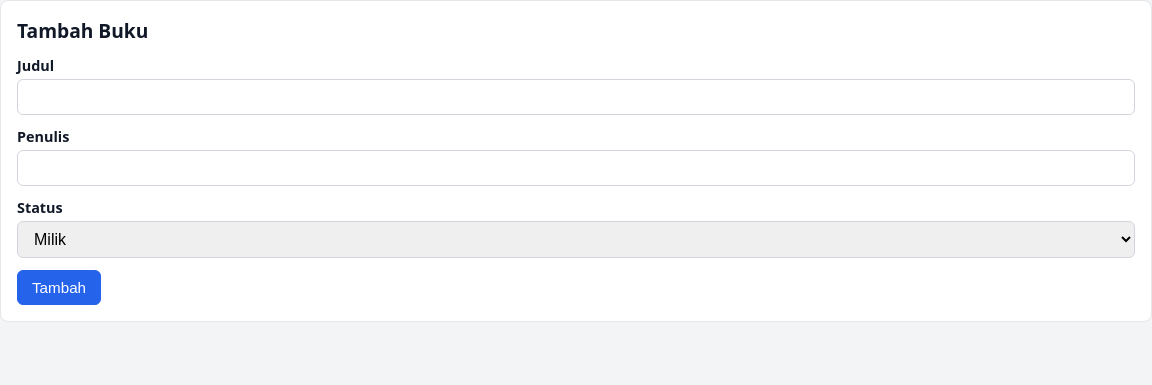
<BookForm /> › menghapus pesan error ketika pengguna mulai mengetik
This screenshot has width=1152, height=385.
Click the button "Tambah": (59, 288) [17,270,101,305]
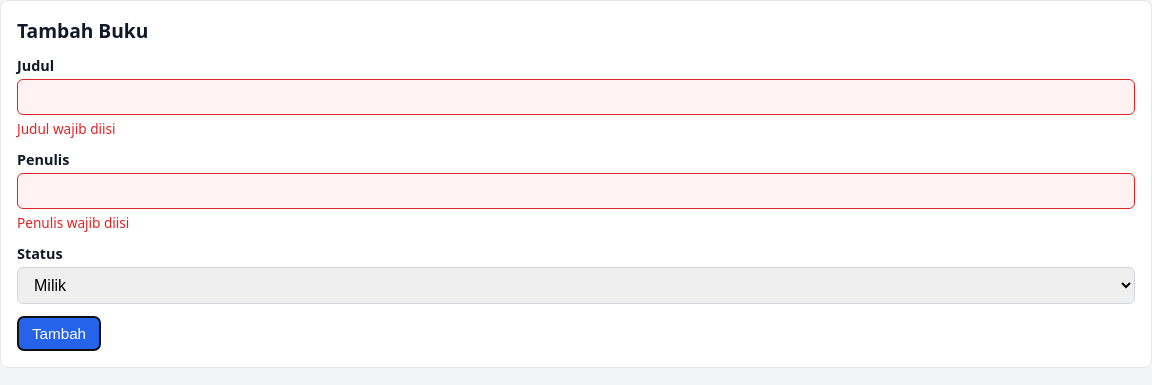
In the field labelled "Judul": (576, 97) [17,79,1135,115], type "Laskar Pelangi"
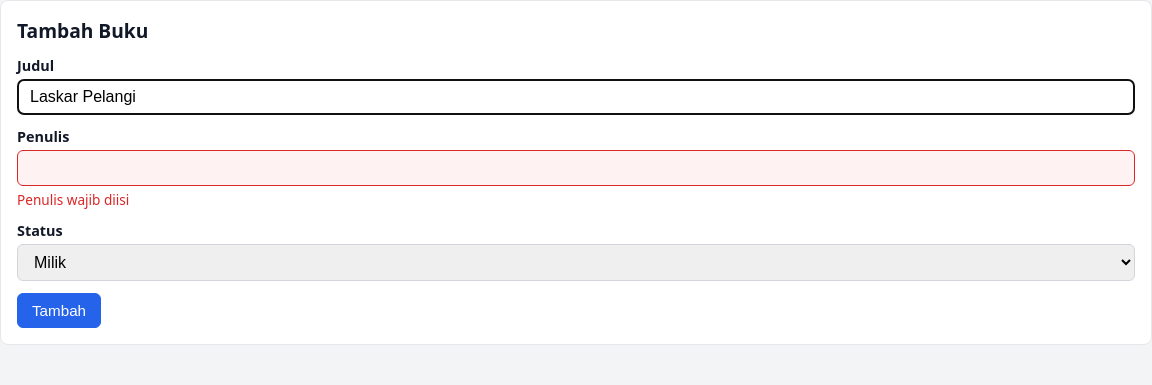
Now the text "Judul wajib diisi" is gone
